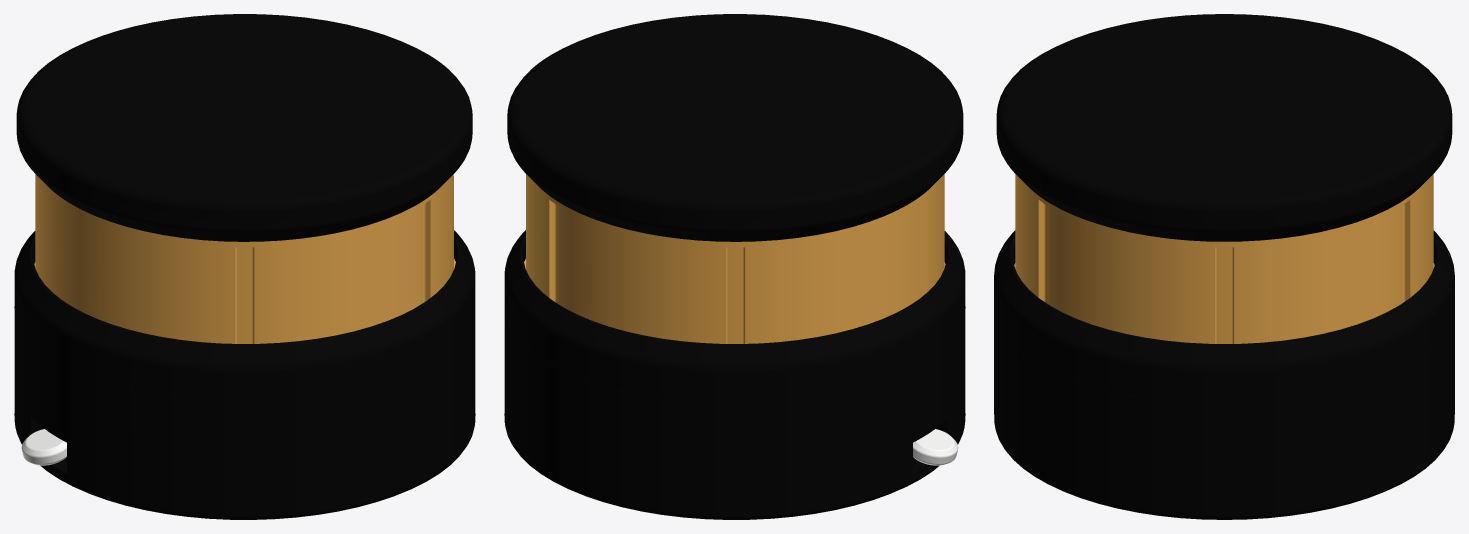
Rendered from combined.glb.
3 views of the same model, side by side, from view 1: azimuth 30°, elevation 25°; view 2: azimuth 150°, elevation 25°; view 3: azimuth 270°, elevation 25° (orthographic).
Size of the model in its own units: 0.1053 by 0.0763 by 0.1003.
